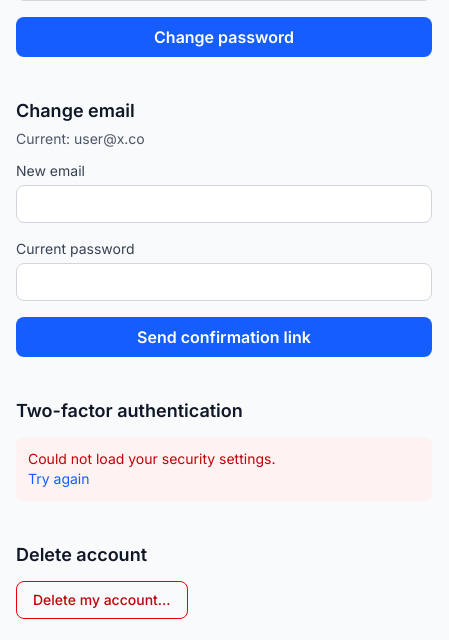
Test: AccountSecurityPage › load error shows an alert and Try again retries
(page scrolled)
Check: the message "Could not load your security settings. Try again" is shown, box x1=16 y1=437 x2=432 y2=501
Click the button with test id "two-factor-retry": coordinates (59, 479) x1=28 y1=469 x2=90 y2=489
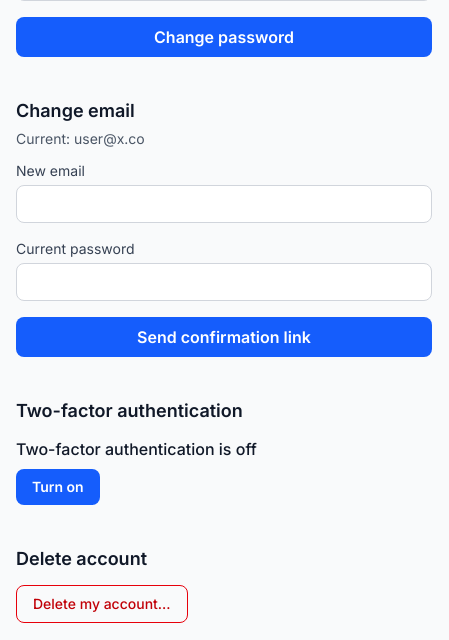
Check: the button with test id "two-factor-enable" is shown, box x1=16 y1=469 x2=100 y2=505
